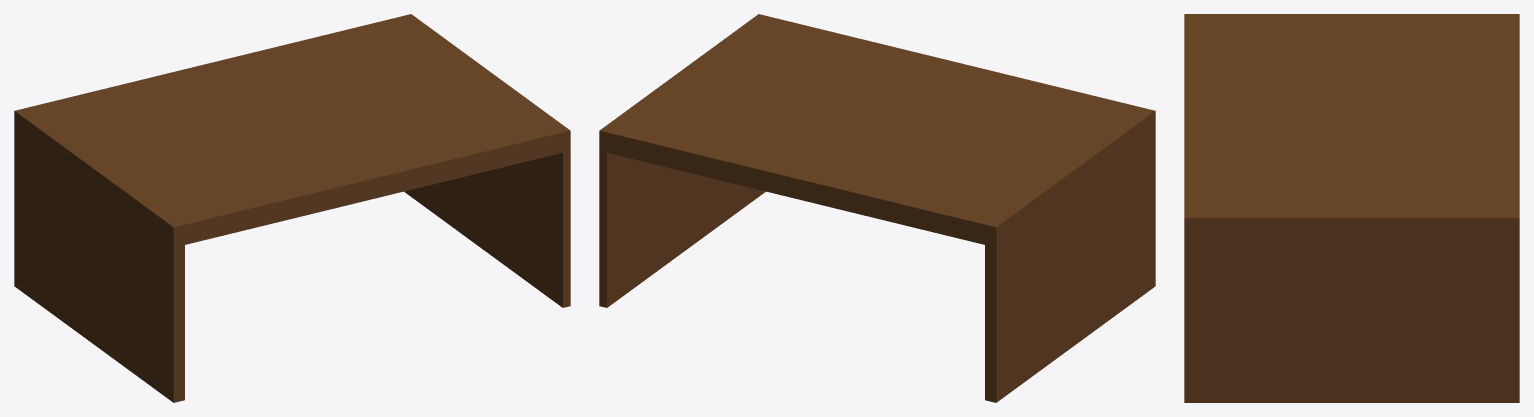
Rendered from Table.fbx.
3 renders of one model, left to right at view 1: azimuth 30°, elevation 25°; view 2: azimuth 150°, elevation 25°; view 3: azimuth 270°, elevation 25°, orthographic. The views are drawn at different scales.
Visible parts, largest first — view 1: pCube2; view 2: pCube2; view 3: pCube2.
Part boxes in pixels (x1,y1,x2,y2): pCube2: [14, 14, 570, 402]; pCube2: [599, 14, 1155, 402]; pCube2: [1184, 14, 1519, 402].
Size of the model in its own units: 9.53 by 4.03 by 6.63.
